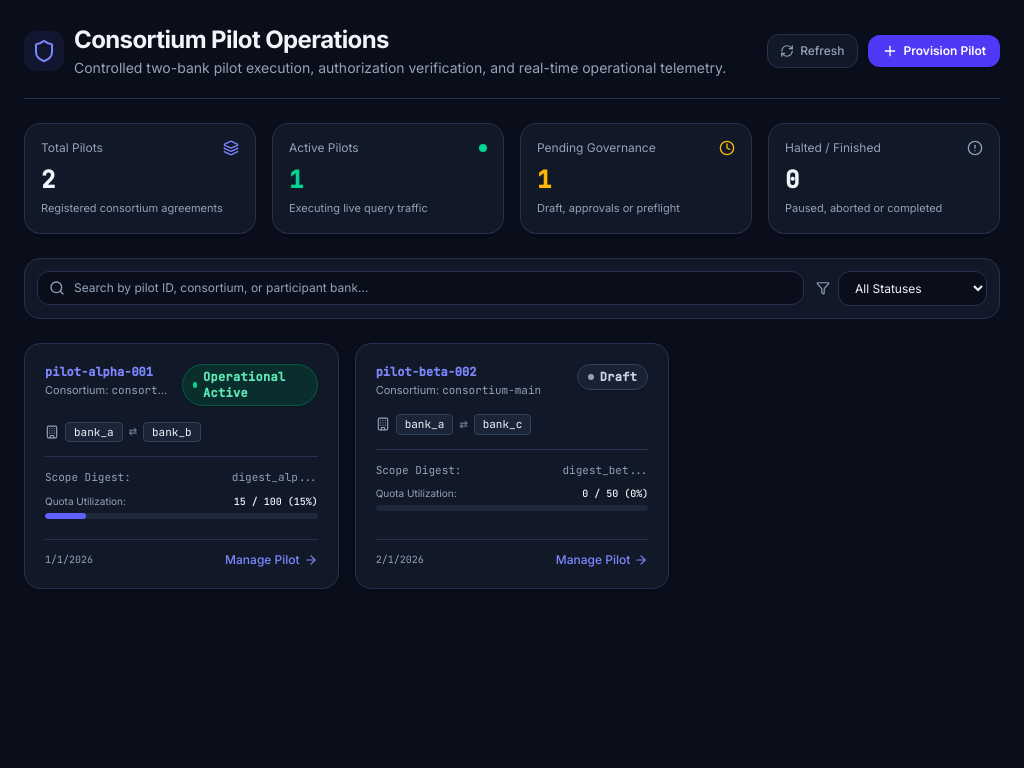
Test: PilotOperationsPage Component › opens provision modal with clean inputs and no hardcoded localhost endpoints
The width and height of the screenshot is (1024, 768).
Click the button "Provision Pilot" at (934, 51), box [868,35,1000,67]
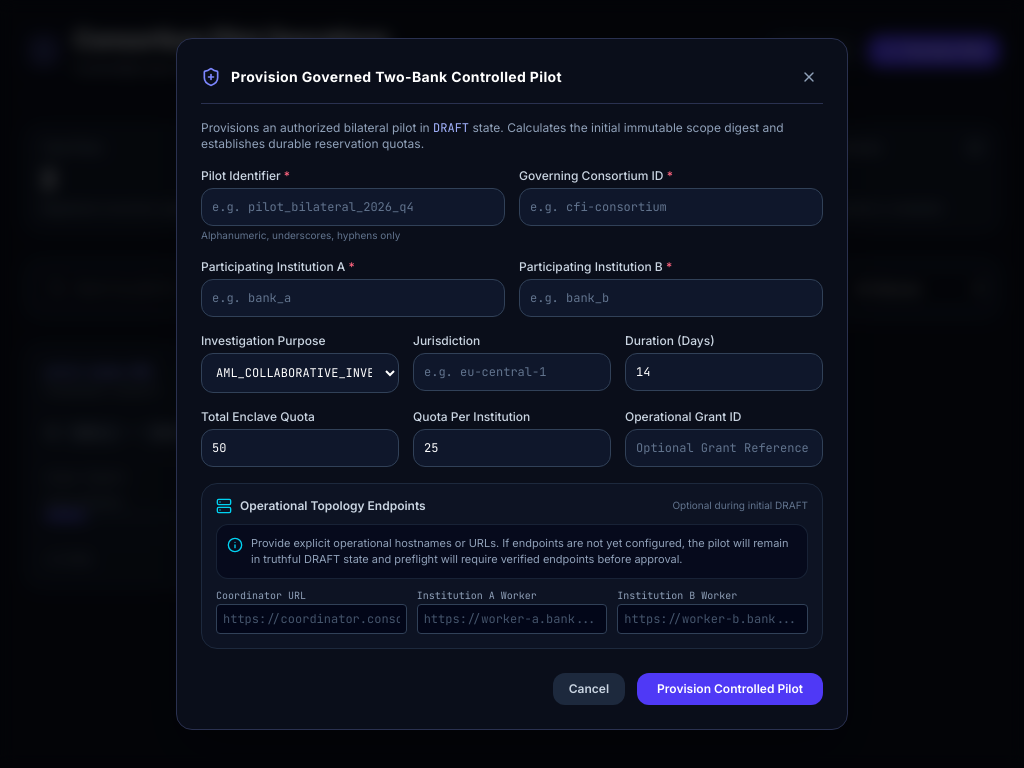
Result: the heading "Provision Governed Two-Bank Controlled Pilot" is shown at [231,67,562,87]
Result: the field with placeholder "e.g. pilot_bilateral_2026_q4" is empty at [201,188,505,226]
Result: the field with placeholder "e.g. bank_a" is empty at [201,279,505,317]
